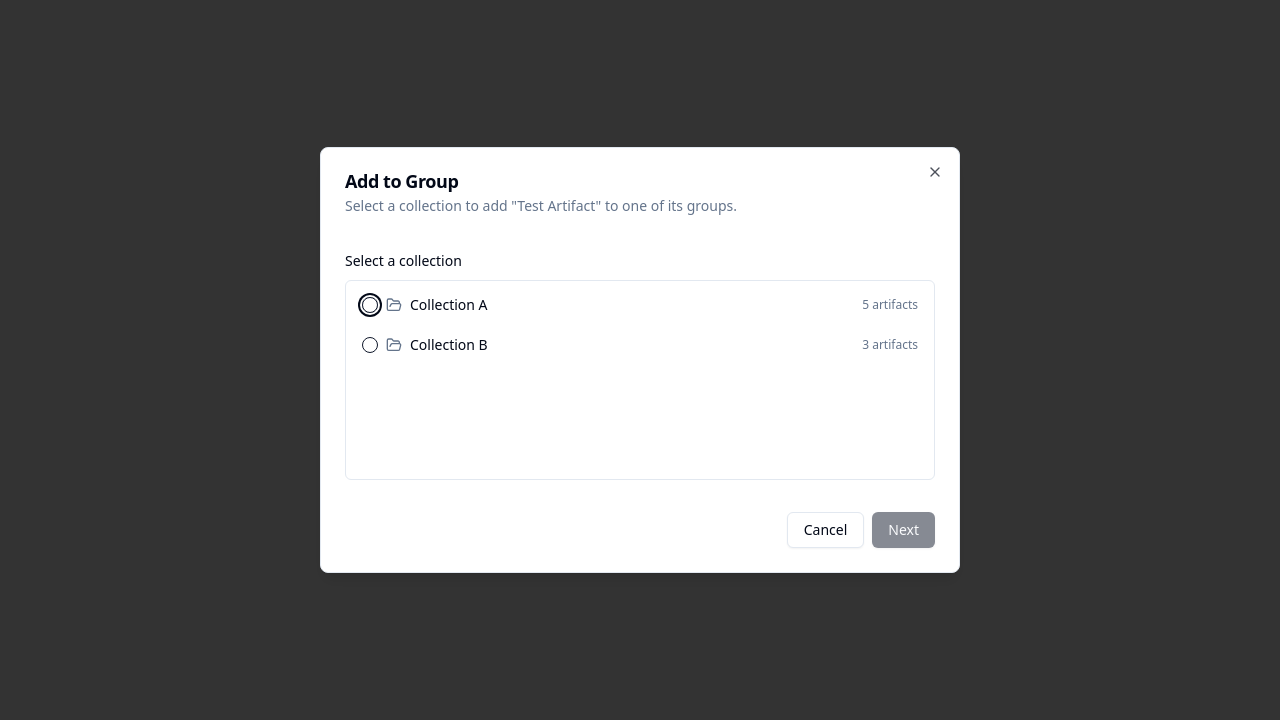
Scenario: AddToGroupDialog › Collection Picker Step › shows Next button disabled until collection selected
The image size is (1280, 720).
Check: the button "Next" is disabled, box [872,512,935,548]
// Select a collection
Click the text "Collection A" at point(449, 305), box [410,298,488,312]
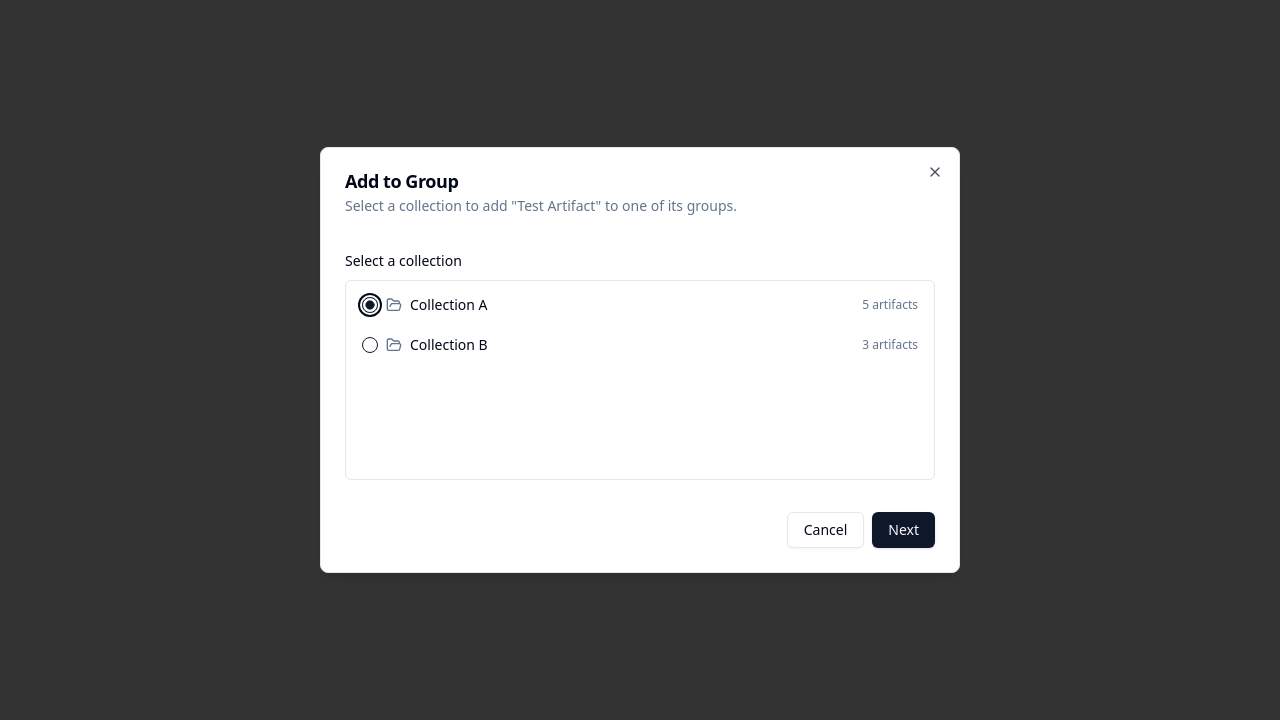
Check: the button "Next" is enabled, box [872,512,935,548]
